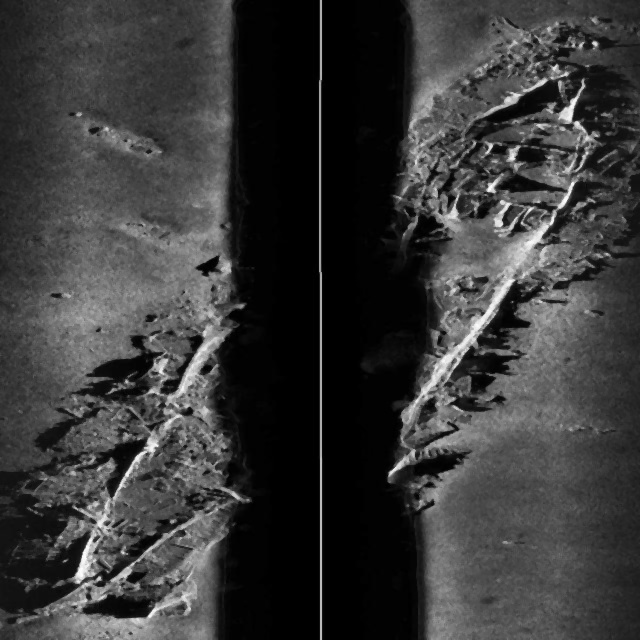Ship: (407, 21, 626, 498), (4, 285, 263, 636)
